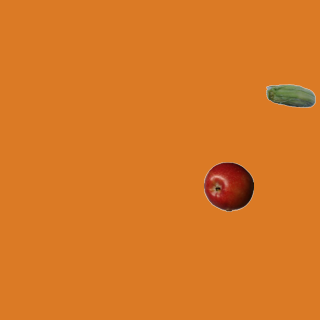Apple Braeburn: (203, 161, 253, 211)
Corn Husk: (265, 72, 315, 122)
